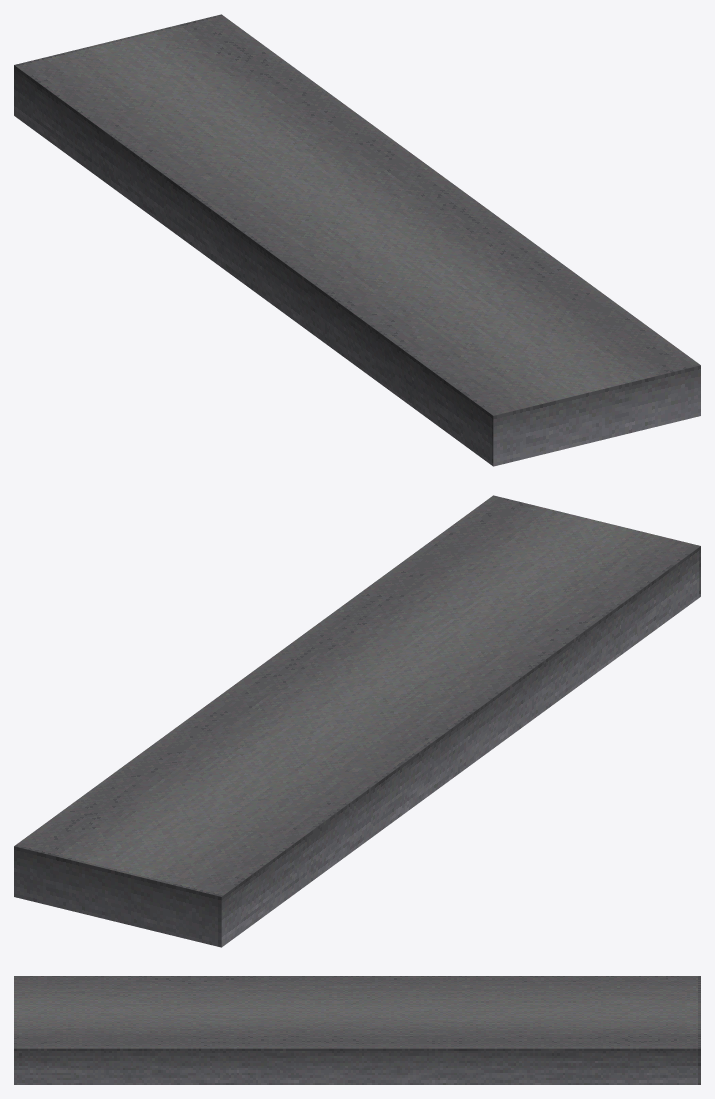
Rendered from fluorescent-light-panel.glb.
3 views of the same model, one above another, from view 1: azimuth 30°, elevation 25°; view 2: azimuth 150°, elevation 25°; view 3: azimuth 270°, elevation 25° (orthographic). The views are drawn at different scales.
Visible parts, largest first — view 1: fluorescent-light-panel-col; view 2: fluorescent-light-panel-col; view 3: fluorescent-light-panel-col.
Boxes of the visible parts, <box> form: fluorescent-light-panel-col: <box>14,14,700,466</box>; fluorescent-light-panel-col: <box>14,495,700,947</box>; fluorescent-light-panel-col: <box>14,976,700,1084</box>.
Bounding box in the file's own units: 0.3 × 0.07 × 1.2.
2 materials, 1 textured.
